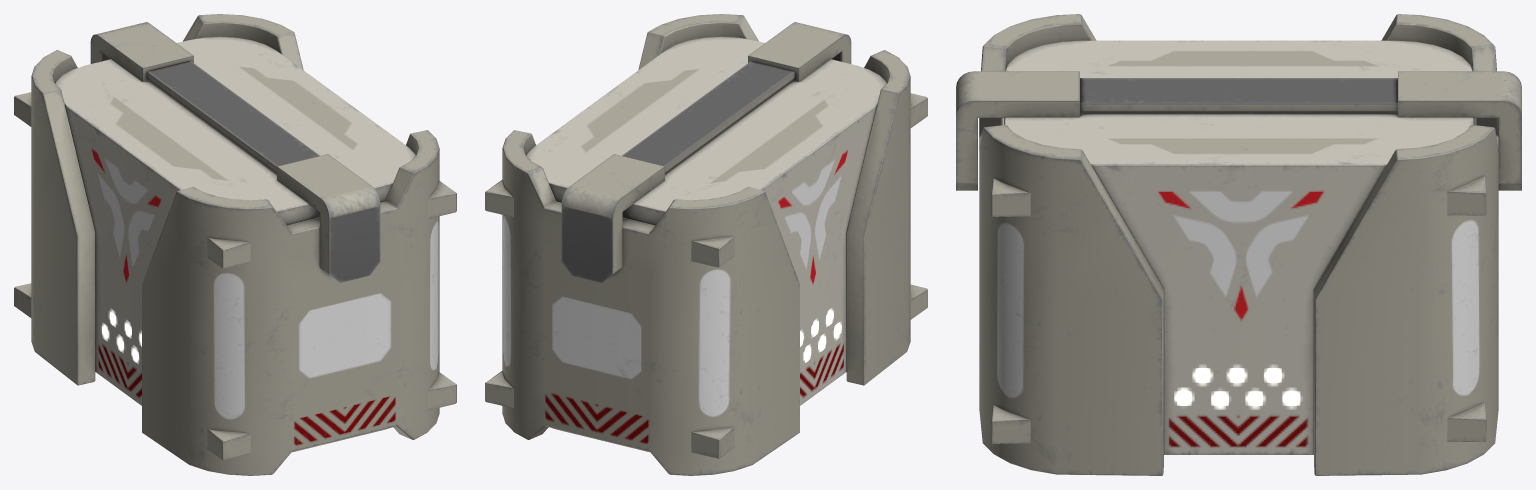
Rendered from SM_Crates3pt1-1.fbx.
The picture shows the model from 3 angles, left to right: view 1: azimuth 30°, elevation 25°; view 2: azimuth 150°, elevation 25°; view 3: azimuth 270°, elevation 25°; orthographic projection. The views are drawn at different scales.
Visible parts, largest first — view 1: SM_Crates3pt1-1_LOD0; view 2: SM_Crates3pt1-1_LOD0; view 3: SM_Crates3pt1-1_LOD0.
Part boxes in pixels (x1,y1,x2,y2): SM_Crates3pt1-1_LOD0: [14, 14, 456, 475]; SM_Crates3pt1-1_LOD0: [485, 14, 927, 475]; SM_Crates3pt1-1_LOD0: [956, 14, 1521, 475].
Bounding box in the file's own units: 49.09 × 49.81 × 80.46.
Materials: 1 (1 with a texture image).
